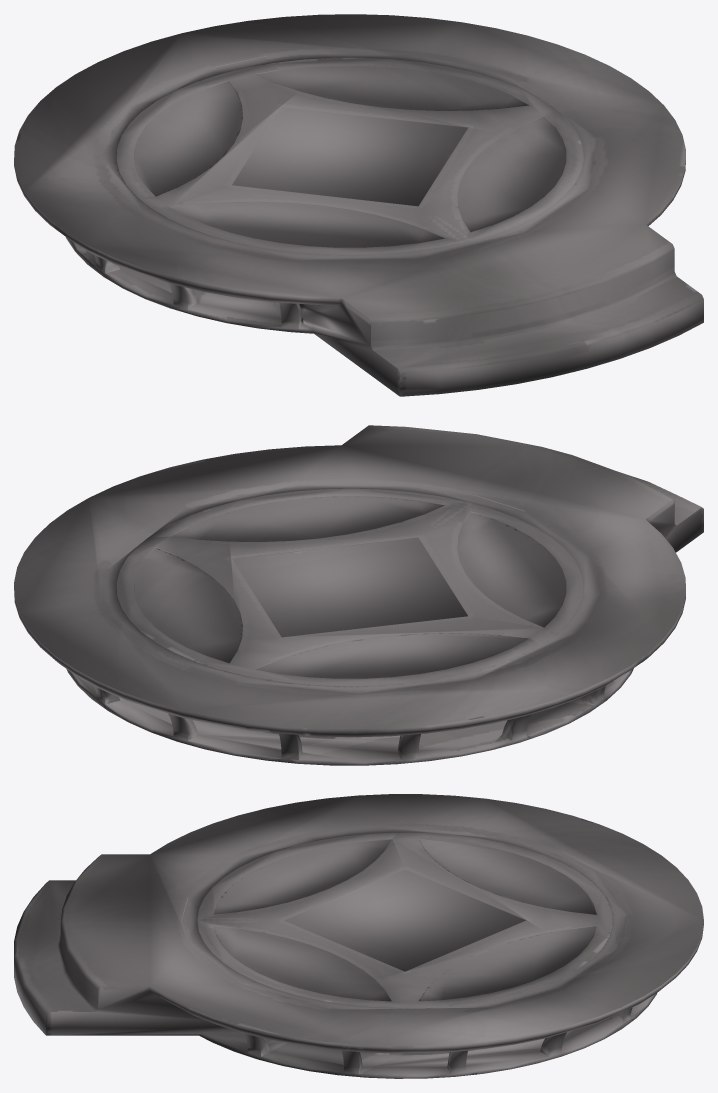
Rendered from Platform comms.glb.
3 renders of one model, top to bottom at view 1: azimuth 30°, elevation 25°; view 2: azimuth 150°, elevation 25°; view 3: azimuth 270°, elevation 25°, orthographic. The views are drawn at different scales.
Visible parts, largest first — view 1: Platform comms; view 2: Platform comms; view 3: Platform comms.
Part boxes in pixels (x1=…): Platform comms: x1=14, y1=14, x2=703, y2=396; Platform comms: x1=14, y1=425, x2=703, y2=765; Platform comms: x1=14, y1=794, x2=703, y2=1078.
Size of the model in its own units: 22.12 by 2.02 by 25.55.
Materials: 1 (1 with a texture image).
